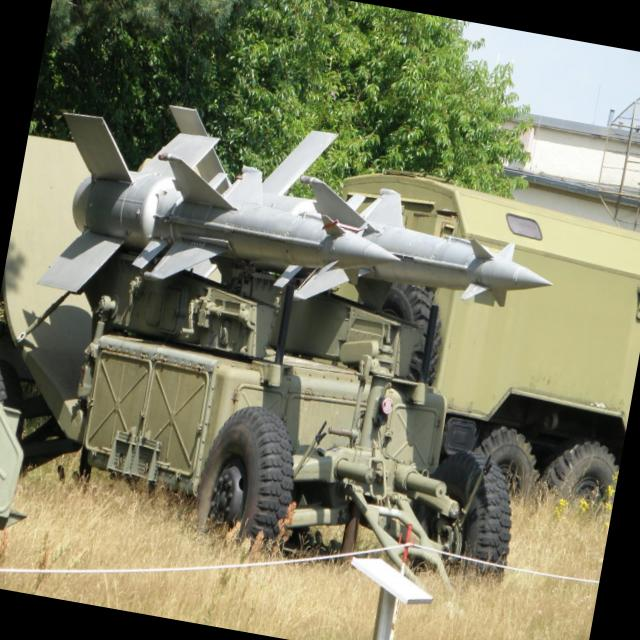rocket: (43, 81, 574, 374)
